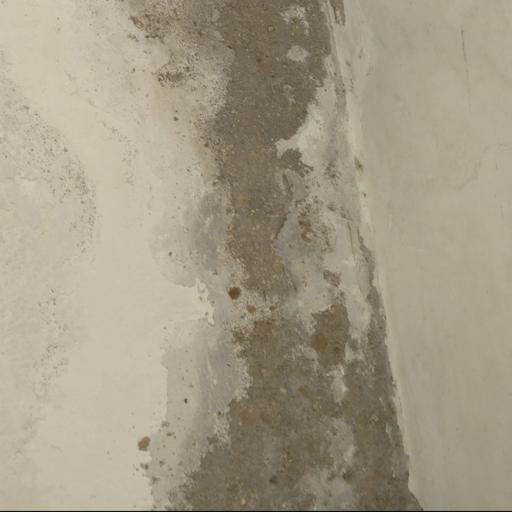peeling: (85, 0, 443, 512)
